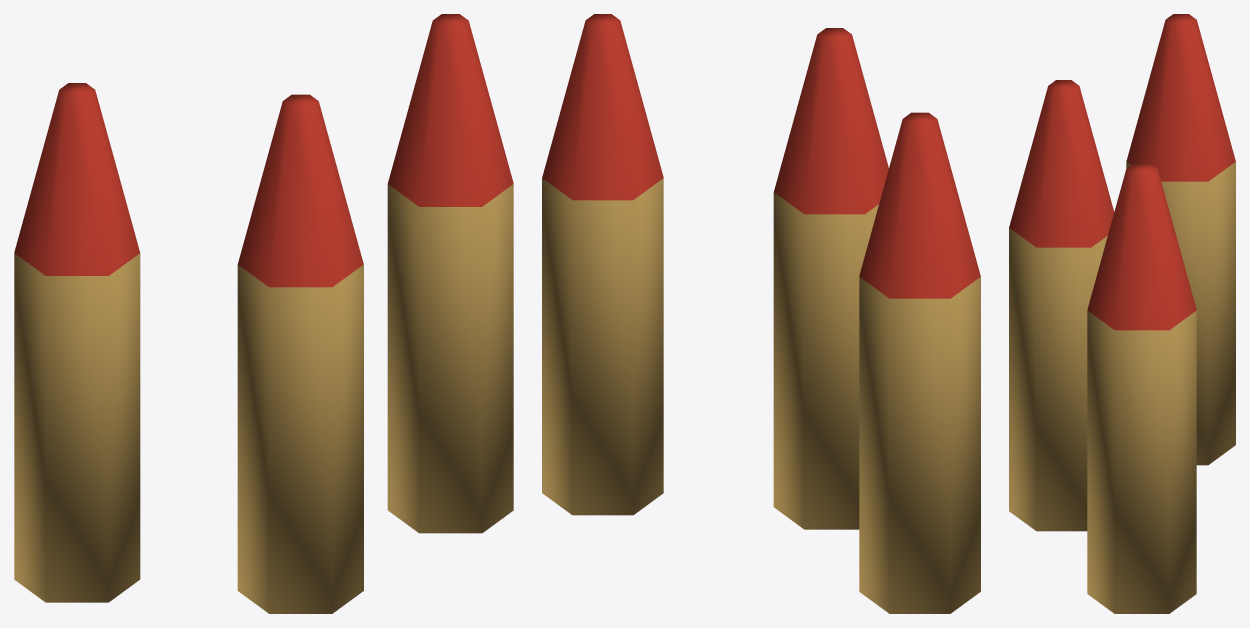
Rendered from rocket_i.glb.
3 renders of one model, left to right at view 1: azimuth 30°, elevation 25°; view 2: azimuth 150°, elevation 25°; view 3: azimuth 270°, elevation 25°, orthographic. The views are drawn at different scales.
Parts seen in each view (by area): view 1: rocket_i_v0; view 2: rocket_i_v0; view 3: rocket_i_v0.
Boxes of the visible parts, x1=… form: rocket_i_v0: x1=14, y1=14, x2=513, y2=613; rocket_i_v0: x1=542, y1=14, x2=980, y2=613; rocket_i_v0: x1=1009, y1=14, x2=1235, y2=613.
Bounding box in the file's own units: 0.1142 × 0.12 × 0.058.
